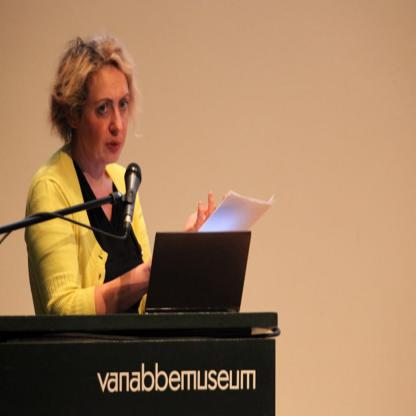board: (145, 227, 252, 312)
